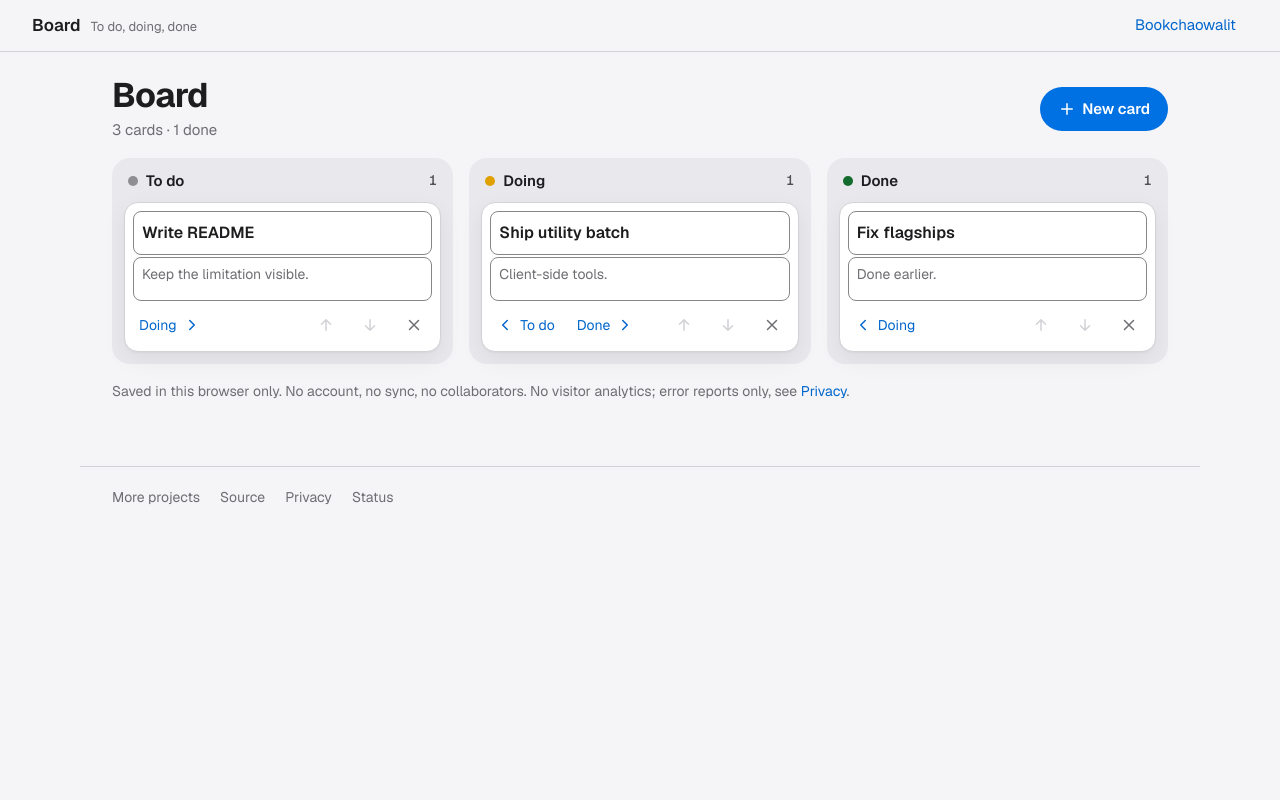
Test: remove and undo › keyboard removal focuses Undo; Undo restores in place and focuses New card; mouse removal empties a column
The width and height of the screenshot is (1280, 800).
Click the button named "Remove Write README": (414, 325) [392, 303, 436, 347]
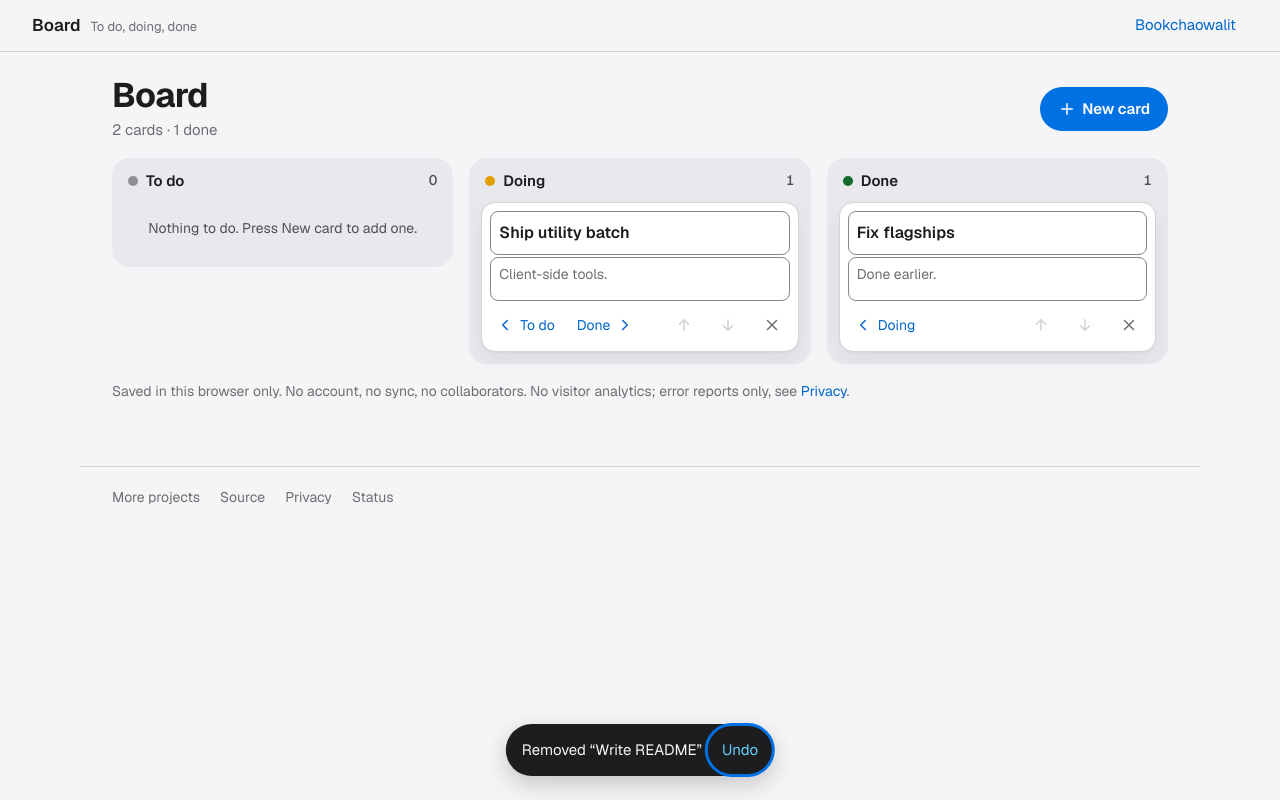
Expected: the button "Undo" is shown
Click the button "Undo": (740, 750) [710, 728, 770, 772]
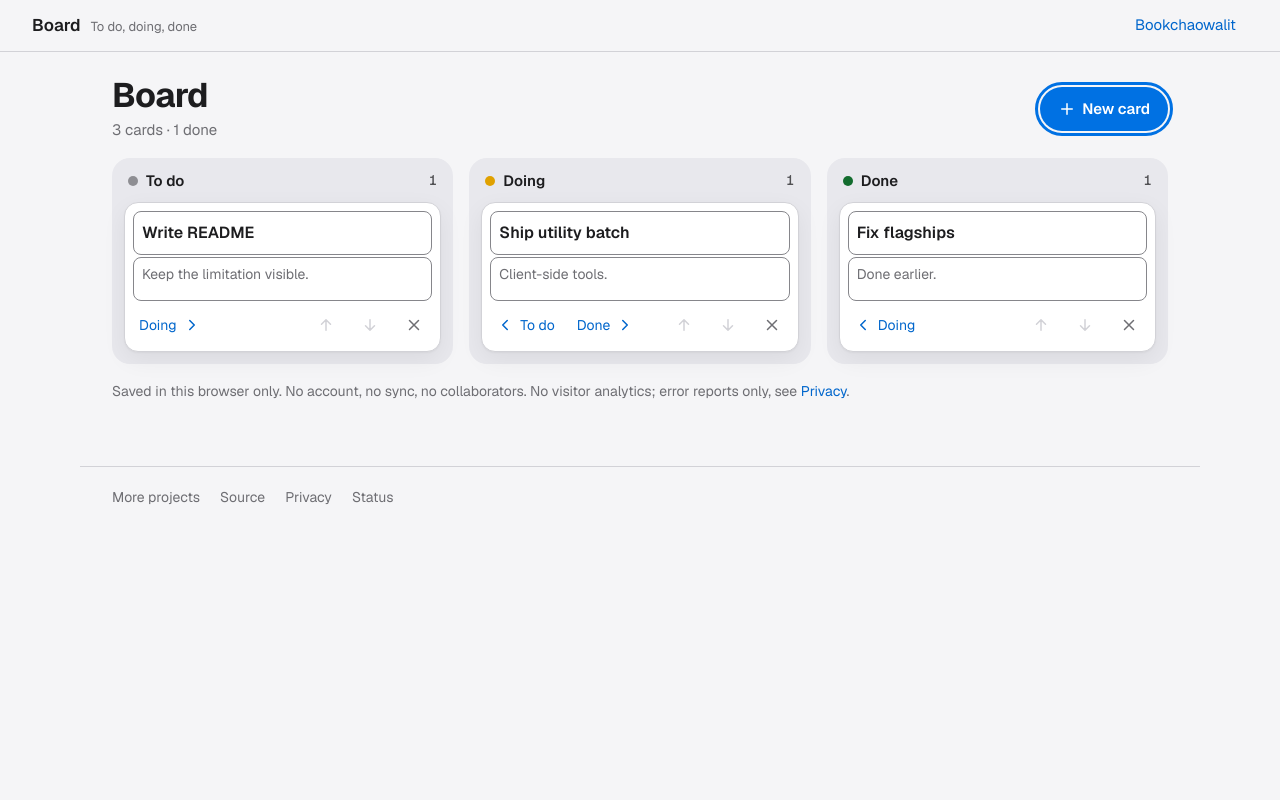
Expected: the button "New card" is shown, [1040, 87, 1168, 131]
Click the button named "Remove Fix flagships": (1129, 325) [1107, 303, 1151, 347]
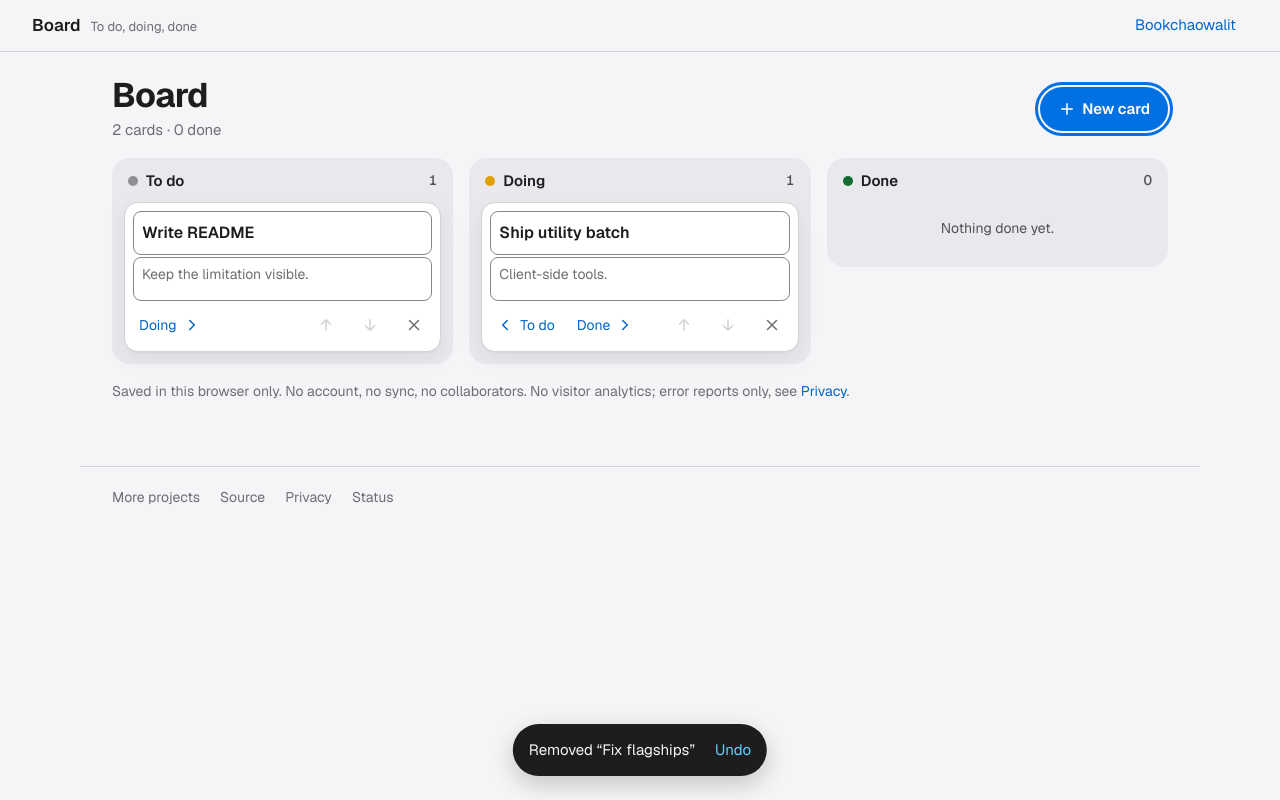
Expected: the text "Nothing done yet." is shown, [941, 219, 1054, 237]
